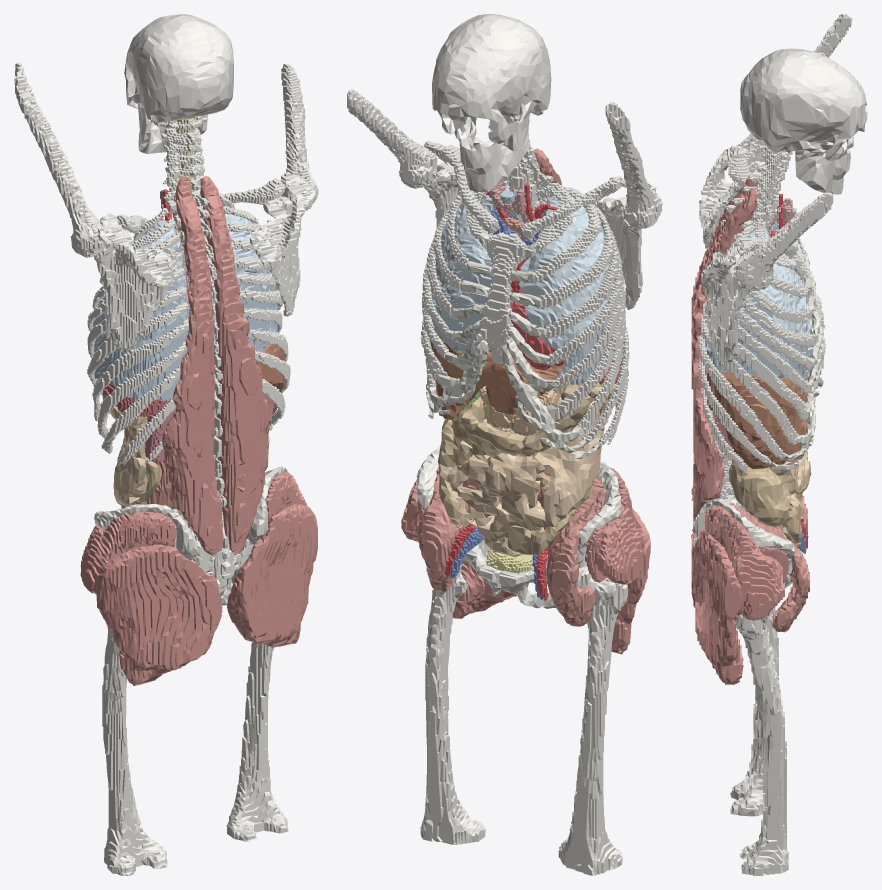
The picture shows the model from 3 angles, left to right: view 1: azimuth 30°, elevation 25°; view 2: azimuth 150°, elevation 25°; view 3: azimuth 270°, elevation 25°; orthographic projection. The views are drawn at different scales.
Visible parts, largest first — view 1: gluteus_maximus_left, autochthon_left, autochthon_right, skull, gluteus_maximus_right, femur_left, scapula_left, femur_right, scapula_right, humerus_left, gluteus_medius_left, lung_lower_lobe_left (+20 smaller); view 2: skull, small_bowel, costal_cartilages, femur_left, femur_right, colon, lung_upper_lobe_left, iliopsoas_left, sternum, humerus_right, humerus_left, gluteus_medius_left (+30 smaller); view 3: skull, femur_right, gluteus_maximus_right, autochthon_right, gluteus_medius_right, liver, colon, scapula_right, humerus_right, scapula_left, femur_left, costal_cartilages (+23 smaller).
Boxes of the visible parts, x1,y1,x2,y2 form: gluteus_maximus_left: (96, 544, 222, 685); autochthon_left: (162, 176, 223, 555); autochthon_right: (200, 176, 271, 554); skull: (124, 14, 233, 153); gluteus_maximus_right: (227, 504, 317, 647); femur_left: (102, 617, 168, 875); scapula_left: (94, 213, 176, 351); femur_right: (226, 642, 288, 841); scapula_right: (250, 172, 316, 316); humerus_left: (14, 62, 105, 257); gluteus_medius_left: (80, 511, 177, 594); lung_lower_lobe_left: (94, 275, 189, 402); skull: (432, 14, 551, 191); small_bowel: (447, 397, 603, 556); costal_cartilages: (426, 229, 602, 459); femur_left: (558, 566, 628, 875); femur_right: (420, 561, 486, 844); colon: (438, 382, 616, 555); lung_upper_lobe_left: (519, 195, 612, 384); iliopsoas_left: (539, 473, 606, 626); sternum: (479, 232, 527, 363); humerus_right: (347, 89, 437, 188); humerus_left: (605, 102, 662, 228); gluteus_medius_left: (595, 467, 642, 584); skull: (740, 48, 867, 194); femur_right: (734, 582, 788, 875); gluteus_maximus_right: (693, 529, 743, 684); autochthon_right: (691, 189, 757, 520); gluteus_medius_right: (703, 505, 784, 620); liver: (707, 370, 810, 468); colon: (729, 454, 803, 563); scapula_right: (701, 242, 755, 363); humerus_right: (734, 192, 833, 290); scapula_left: (699, 146, 762, 249); femur_left: (730, 607, 778, 816); costal_cartilages: (762, 254, 825, 470).
Bounding box in the file's own units: 0.4751 × 1.34 × 0.2747.
